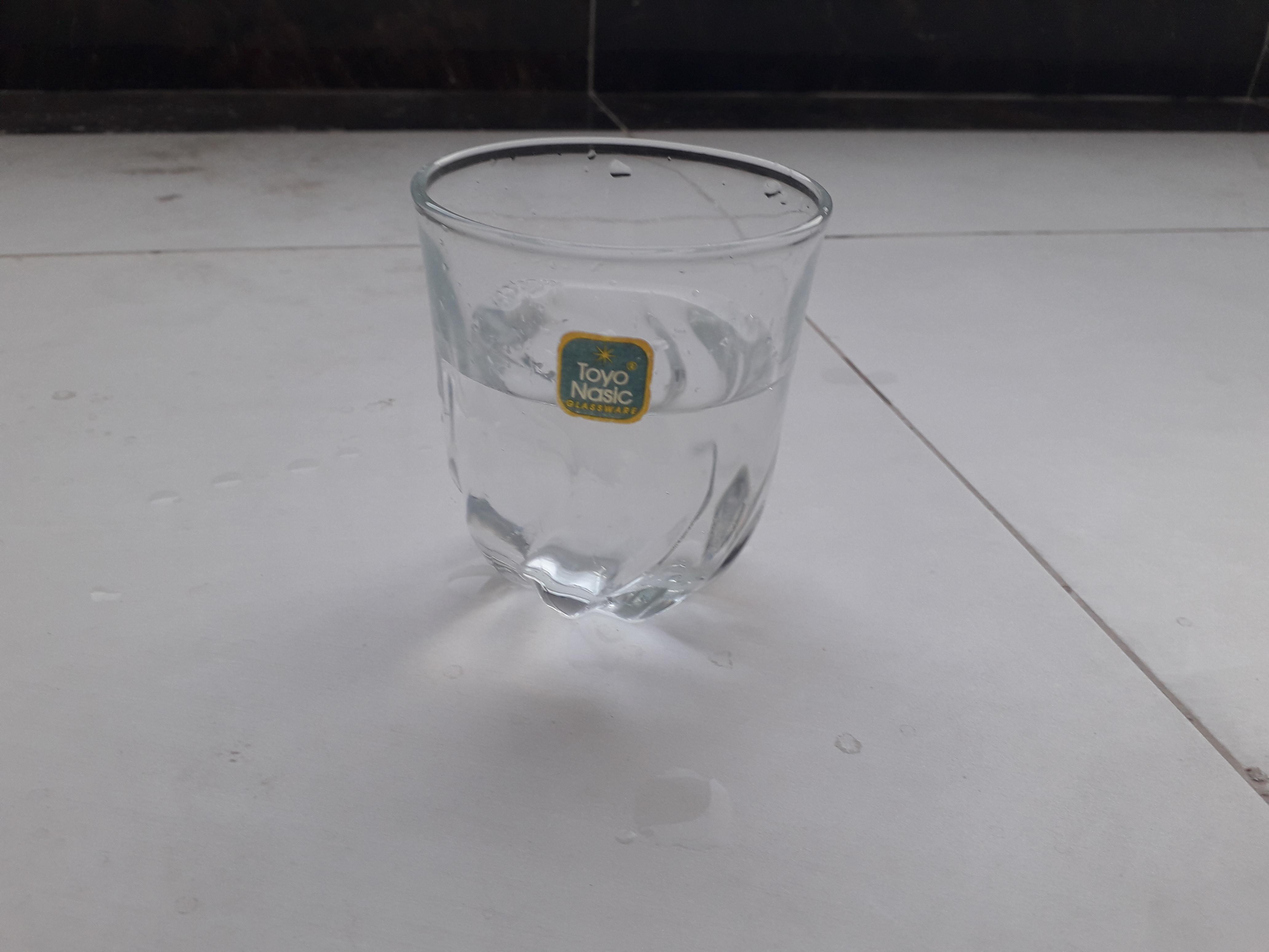glass-normal: (412, 135, 834, 627)
